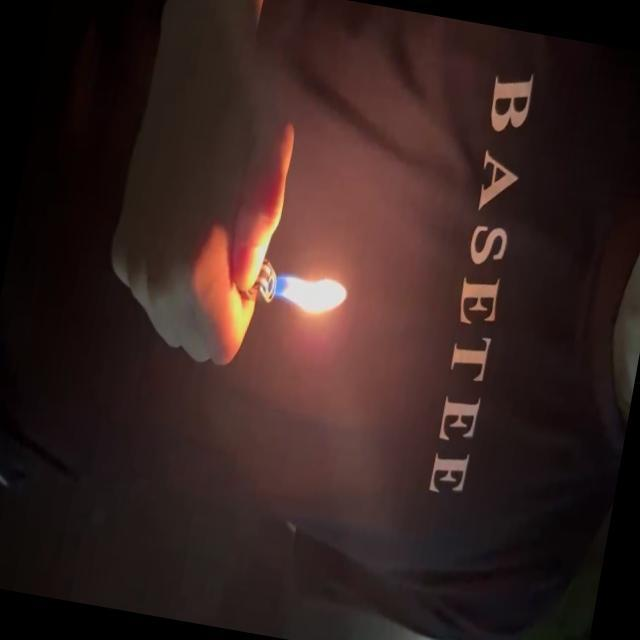Fire: (264, 263, 352, 328)
